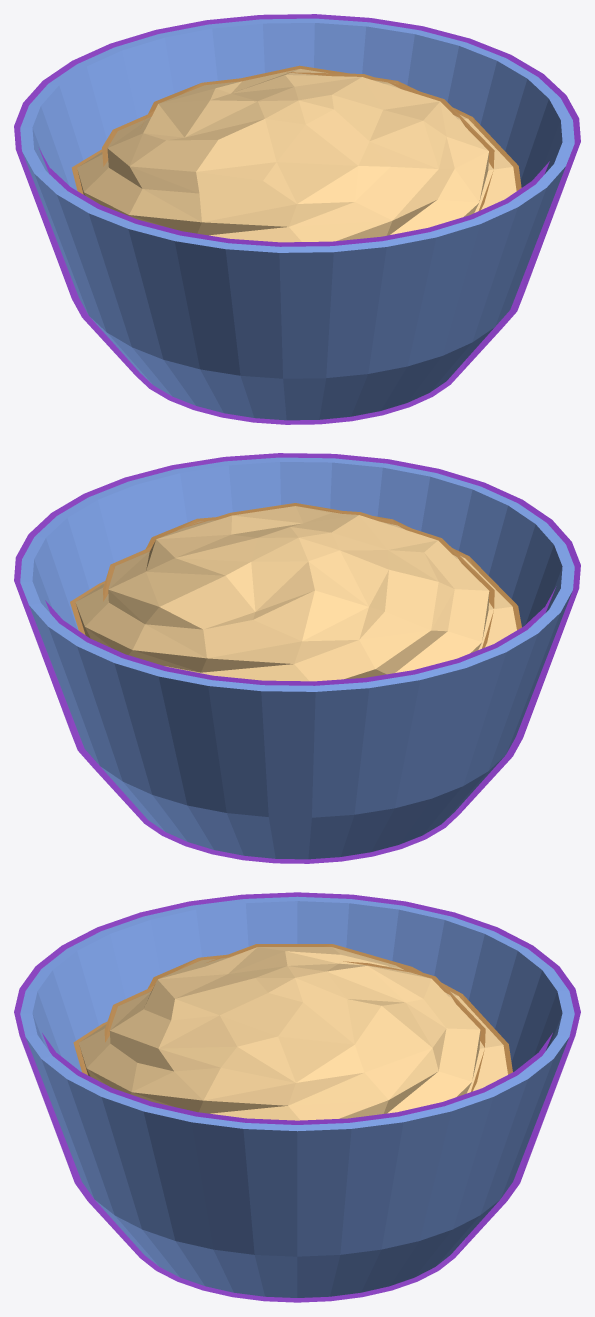
The model's file is massa de baunilha.glb.
3 renders of one model, top to bottom at view 1: azimuth 30°, elevation 25°; view 2: azimuth 150°, elevation 25°; view 3: azimuth 270°, elevation 25°, orthographic.
Parts seen in each view (by area): view 1: Cylinder.007, chantilly.003; view 2: Cylinder.007, chantilly.003; view 3: Cylinder.007, chantilly.003.
Part boxes in pixels (x1=…): Cylinder.007: x1=14, y1=14, x2=580, y2=424; chantilly.003: x1=71, y1=65, x2=521, y2=242; Cylinder.007: x1=14, y1=453, x2=580, y2=863; chantilly.003: x1=70, y1=503, x2=521, y2=681; Cylinder.007: x1=14, y1=892, x2=580, y2=1302; chantilly.003: x1=73, y1=944, x2=512, y2=1120.
Bounding box in the file's own units: 20.93 × 10.38 × 20.93.
